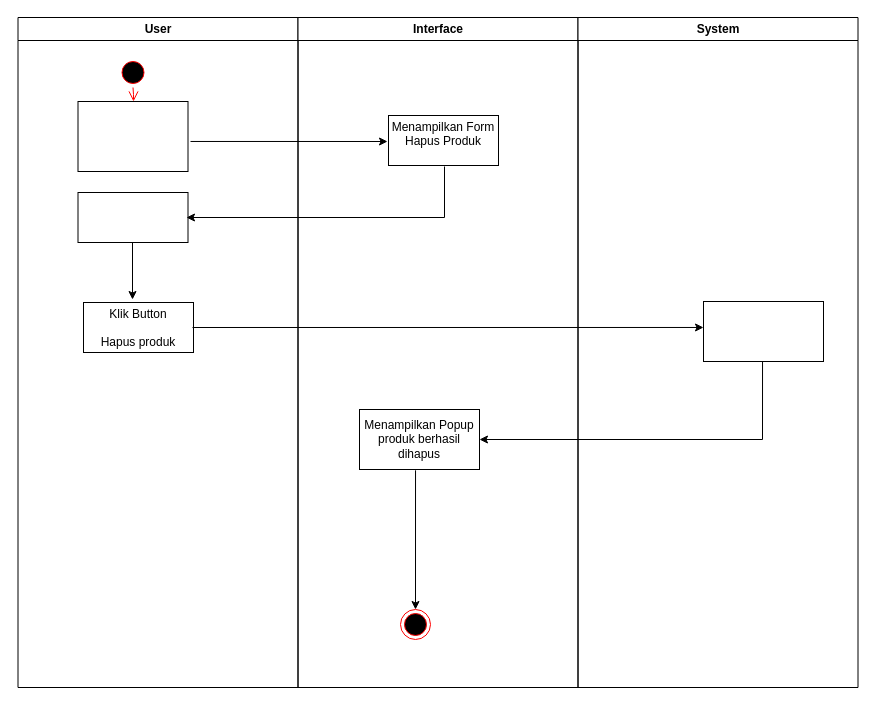
Image size: 875x705. Some labels were removed from this diagram. The centre of each missing label's shape, as x and y in pixels:
Memilih Produk yang ingin dihapus: the point at 132,217
Menghapus Produk dari data yang telah tersimpan: the point at 763,331
User menekan tombol "Hapus Produk": the point at 132,136
